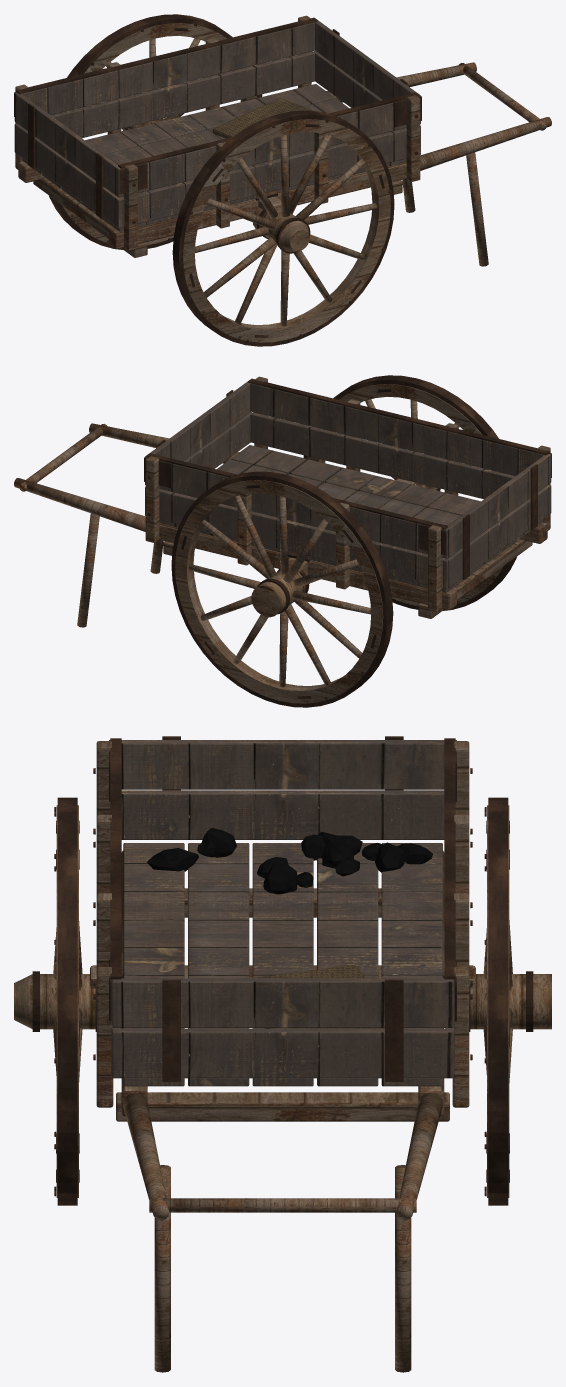
The model's file is handcart.glb.
3 views of the same model, one above another, from view 1: azimuth 30°, elevation 25°; view 2: azimuth 150°, elevation 25°; view 3: azimuth 270°, elevation 25° (orthographic). The views are drawn at different scales.
Parts seen in each view (by area): view 1: cart-body, wheel_left, wheel_right; view 2: cart-body, wheel_right, wheel_left; view 3: cart-body, wheel_right, wheel_left.
Boxes of the visible parts, x1,y1,x2,y2 form: cart-body: (14, 15, 551, 266); wheel_left: (172, 110, 394, 346); wheel_right: (49, 14, 262, 249); cart-body: (14, 376, 551, 627); wheel_right: (171, 471, 393, 707); wheel_left: (303, 375, 516, 610); cart-body: (90, 736, 475, 1372); wheel_right: (469, 797, 551, 1205); wheel_left: (14, 797, 121, 1205).
Bounding box in the file's own units: 2.28 × 1.1 × 1.45.
Materials: 5 (5 with a texture image).
